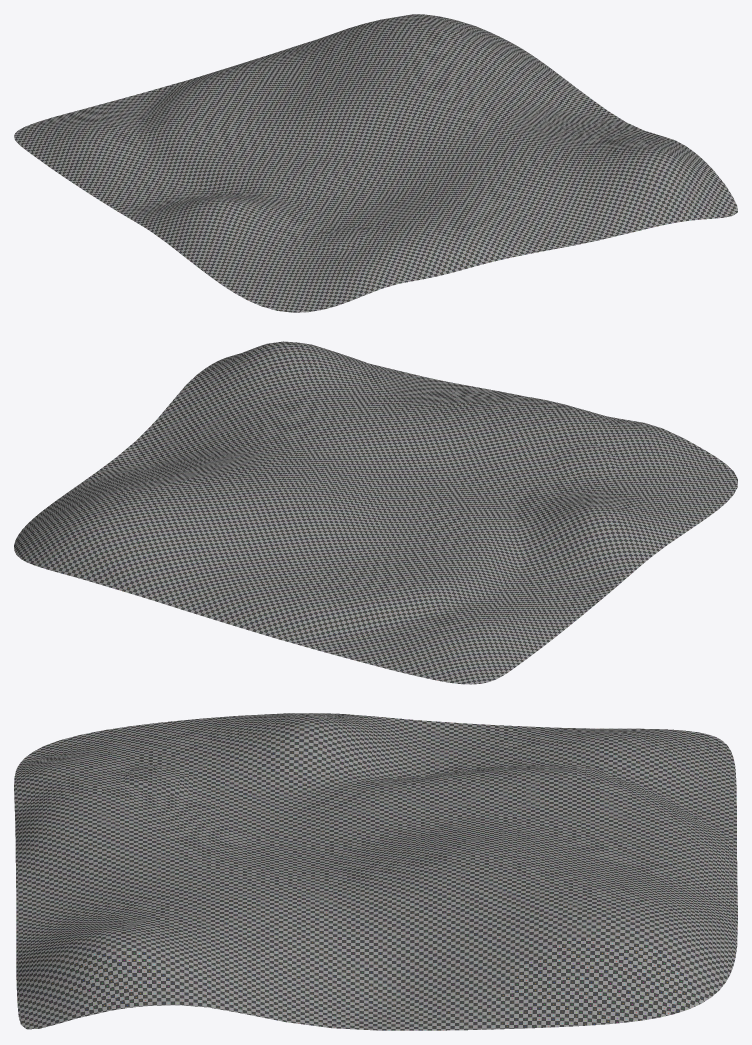
File: map_01.glb
3 views of the same model, one above another, from view 1: azimuth 30°, elevation 25°; view 2: azimuth 150°, elevation 25°; view 3: azimuth 270°, elevation 25° (orthographic). The views are drawn at different scales.
Visible parts, largest first — view 1: Plane; view 2: Plane; view 3: Plane.
Boxes of the visible parts, bbox=[...] form: Plane: bbox=[14, 14, 737, 312]; Plane: bbox=[14, 341, 737, 684]; Plane: bbox=[14, 713, 737, 1030].
Bounding box in the file's own units: 1007 × 93.76 × 1007.
1 material, 1 textured.
